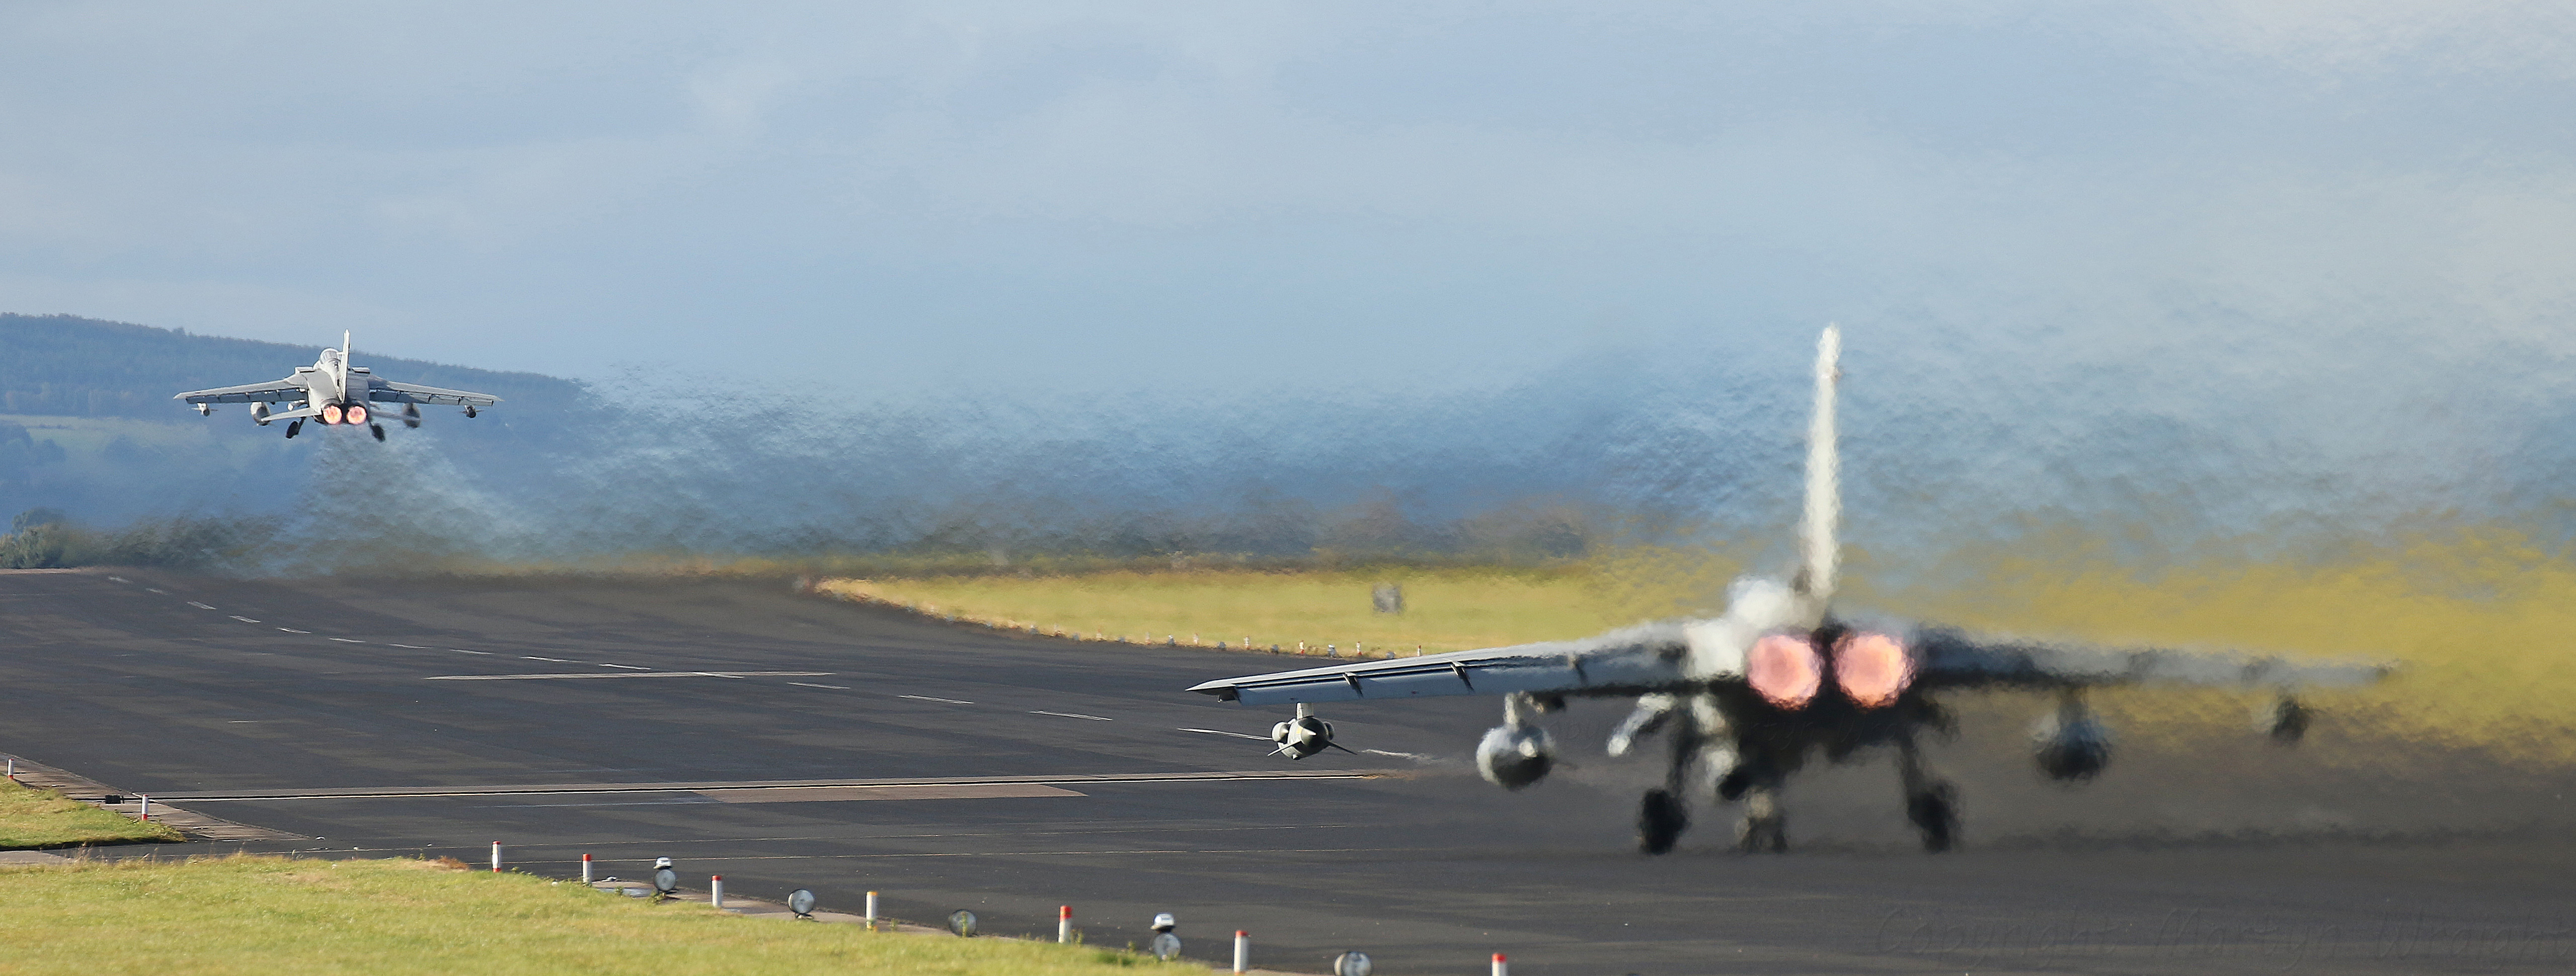Tornado: (1183, 319, 2413, 856), (171, 329, 506, 444)
